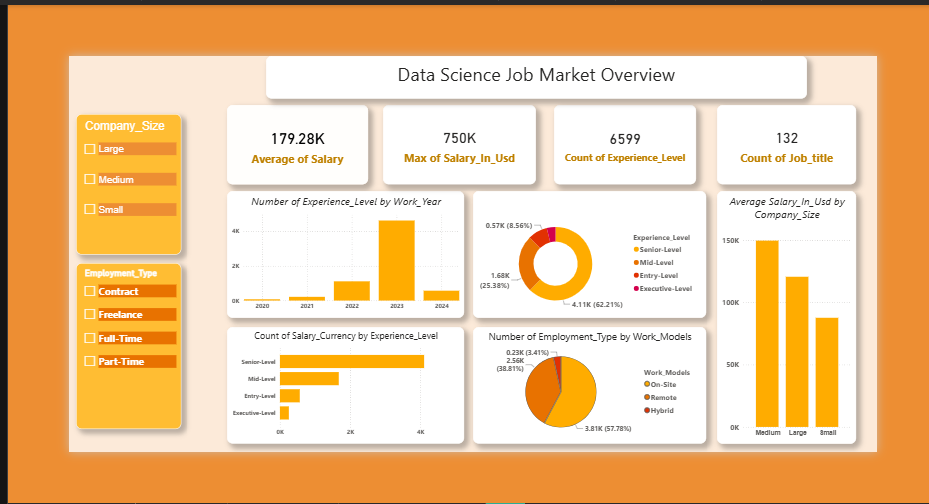

The page's visual inventory and layout, read from the dashboard file:
{"tool":"powerbi","page":{"name":"Overview","canvas":[1650,810],"ordinal":0},"visuals":[{"type":"card","fields":{"Values":["Avg(data_science_salaries.Salary)"]},"box":[322.4,100,287.9,162.1],"z":0},{"type":"card","title":"Number Of Experience Level","fields":{"Values":["CountNonNull(data_science_salaries.Experience_Level)"]},"box":[989.7,100,289.7,162.1],"z":1000},{"type":"barChart","fields":{"Category":["data_science_salaries.Experience_Level"],"Y":["CountNonNull(data_science_salaries.Salary_Currency)"]},"box":[322.4,553.4,484.5,237.9],"z":2000},{"type":"clusteredColumnChart","title":"Number of Experience_Level by Work_Year","fields":{"Category":["data_science_salaries.Work_Year"],"Y":["CountNonNull(data_science_salaries.Experience_Level)"]},"box":[322.4,275.9,484.5,258.6],"z":3000},{"type":"slicer","fields":{"Values":["data_science_salaries.Company_Size"]},"box":[14.8,118.5,214.8,287],"z":4000},{"type":"slicer","fields":{"Values":["data_science_salaries.Employment_Type"]},"box":[14.8,422.2,214.8,338.9],"z":5000},{"type":"card","fields":{"Values":["Max(data_science_salaries.Salary_In_Usd)"]},"box":[641.4,100,312.1,162.1],"z":6000},{"type":"donutChart","title":"Number of Employment_Type by Experience_Level and Experience_Level","fields":{"Category":["data_science_salaries.Experience_Level"],"Series":["data_science_salaries.Experience_Level"],"Y":["CountNonNull(data_science_salaries.Employment_Type)"]},"box":[824.1,275.9,475.9,258.6],"z":7000},{"type":"pieChart","title":"Number of Employment_Type by Work_Models","fields":{"Category":["data_science_salaries.Work_Models"],"Y":["CountNonNull(data_science_salaries.Employment_Type)"]},"box":[824.1,553.4,475.9,237.9],"z":8000},{"type":"textbox","box":[401.9,0,1103.7,87],"z":9000},{"type":"card","fields":{"Values":["Count(data_science_salaries.Job_title)"]},"box":[1322.4,100,284.5,162.1],"z":10000},{"type":"clusteredColumnChart","title":"Average Salary_In_Usd by Company_Size","fields":{"Category":["data_science_salaries.Company_Size"],"Y":["Avg(data_science_salaries.Salary_In_Usd)"]},"box":[1322.4,275.9,284.5,515.5],"z":11000}]}

Visuals, with their boxes on the page's 1650x810 design canvas (x1, y1, x2, y2). These are canvas units, not pixel positions in the 929x504 screenshot, which may show the page scaled, cropped or inside an application window:
card - Avg(data_science_salaries.Salary): 322, 100, 610, 262
"Number Of Experience Level" card: 990, 100, 1279, 262
barChart - data_science_salaries.Experience_Level x CountNonNull(data_science_salaries.Salary_Currency): 322, 553, 807, 791
"Number of Experience_Level by Work_Year" clusteredColumnChart: 322, 276, 807, 534
slicer - data_science_salaries.Company_Size: 15, 118, 230, 406
slicer - data_science_salaries.Employment_Type: 15, 422, 230, 761
card - Max(data_science_salaries.Salary_In_Usd): 641, 100, 954, 262
"Number of Employment_Type by Experience_Level and Experience_Level" donutChart: 824, 276, 1300, 534
"Number of Employment_Type by Work_Models" pieChart: 824, 553, 1300, 791
textbox: 402, 0, 1506, 87
card - Count(data_science_salaries.Job_title): 1322, 100, 1607, 262
"Average Salary_In_Usd by Company_Size" clusteredColumnChart: 1322, 276, 1607, 791
